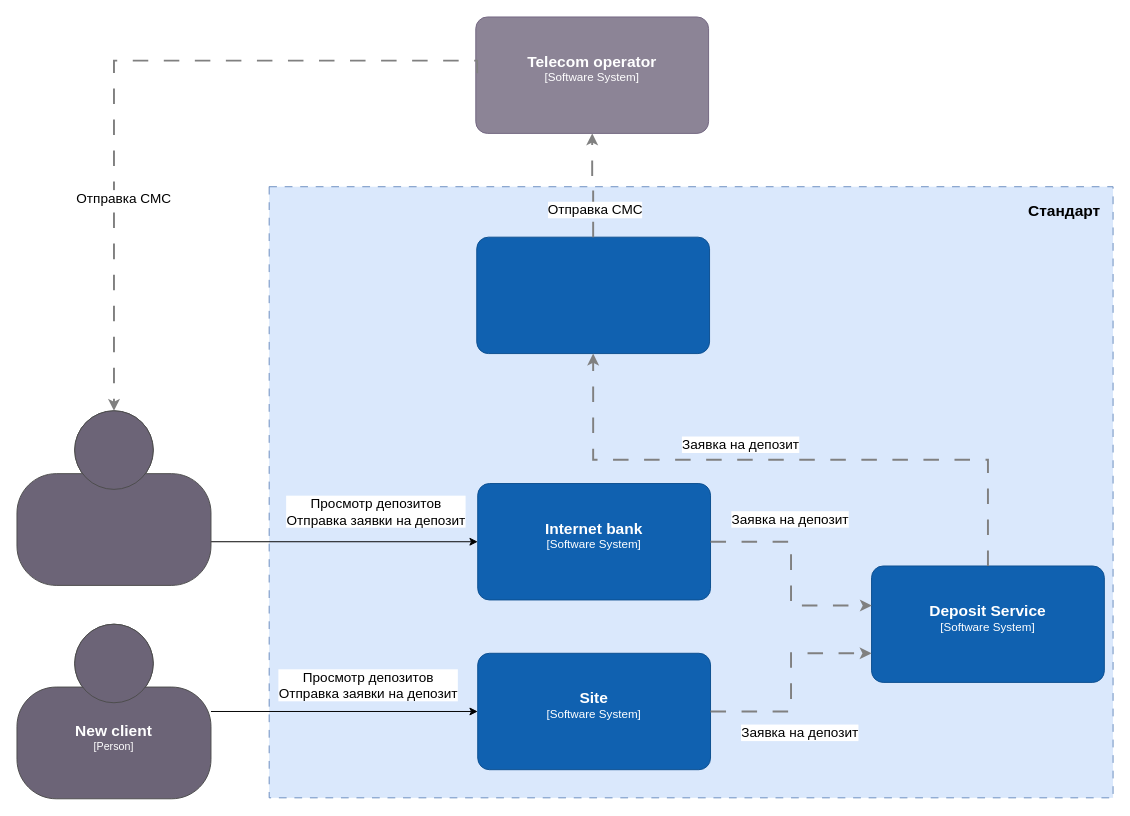
This 1130x816 diagram has some shape labels left out. The shapes that lost their labels are listed below. From the top down, each one's centre as x and y in pixels, then its label:
point (593, 295): ABS [Software System]
point (113, 497): Client [Person]
